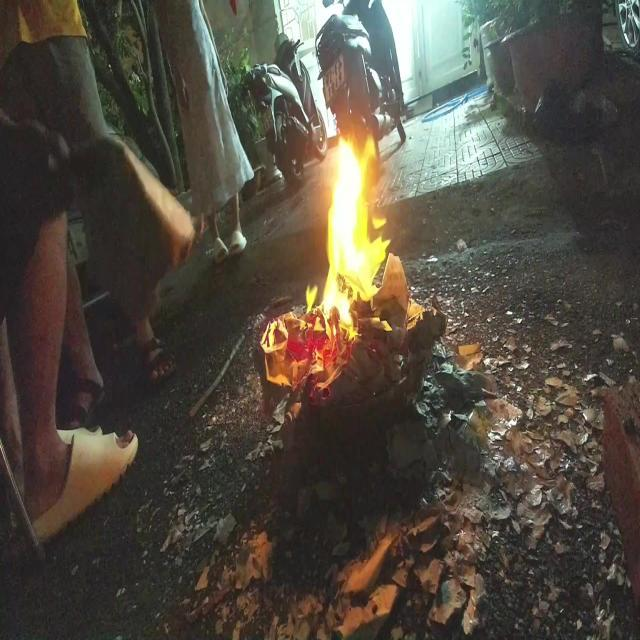Fire: (306, 136, 392, 337), (267, 309, 279, 351)
